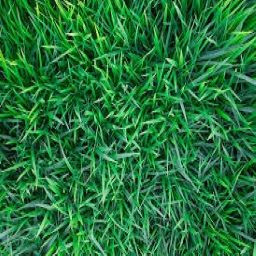grass: (3, 4, 248, 250)
